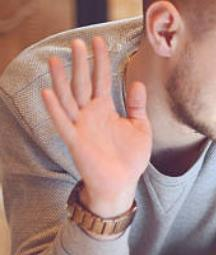down: (36, 33, 157, 201)
